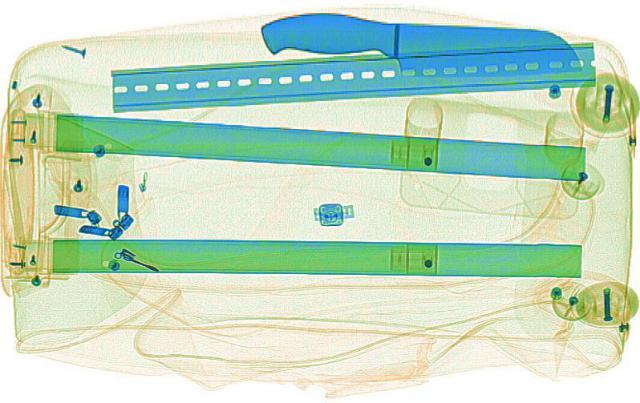Knife: (253, 9, 587, 85)
